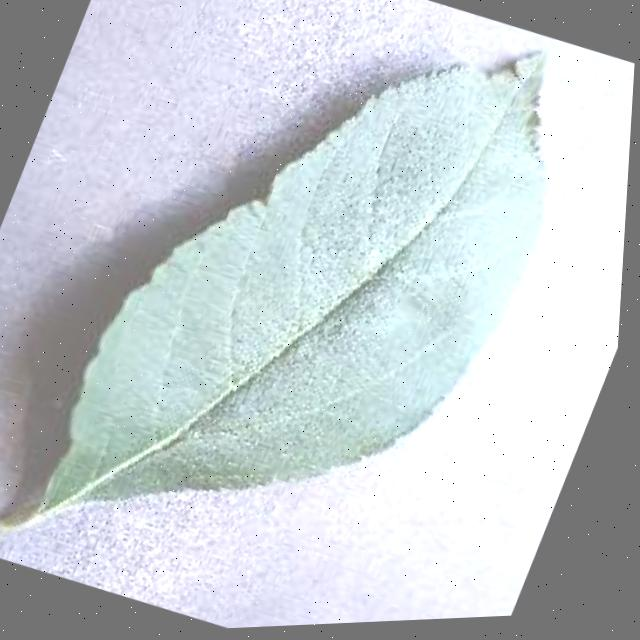healthy: (0, 0, 627, 639)
